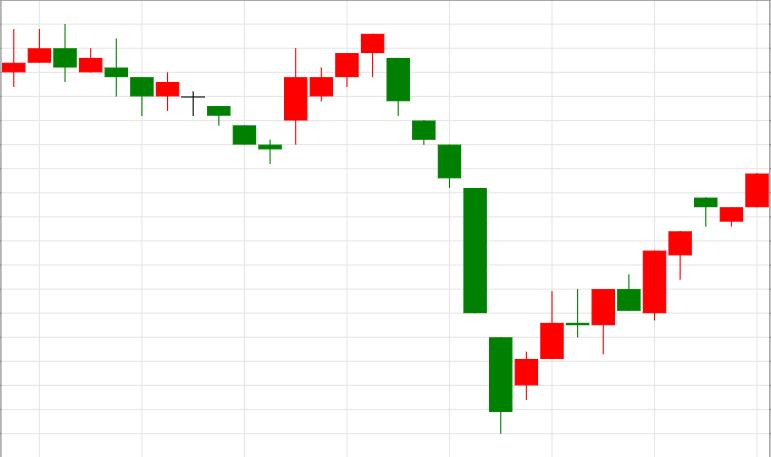evening_star_fall: (259, 35, 410, 164)
three_black_crows_fall: (259, 33, 462, 189)
